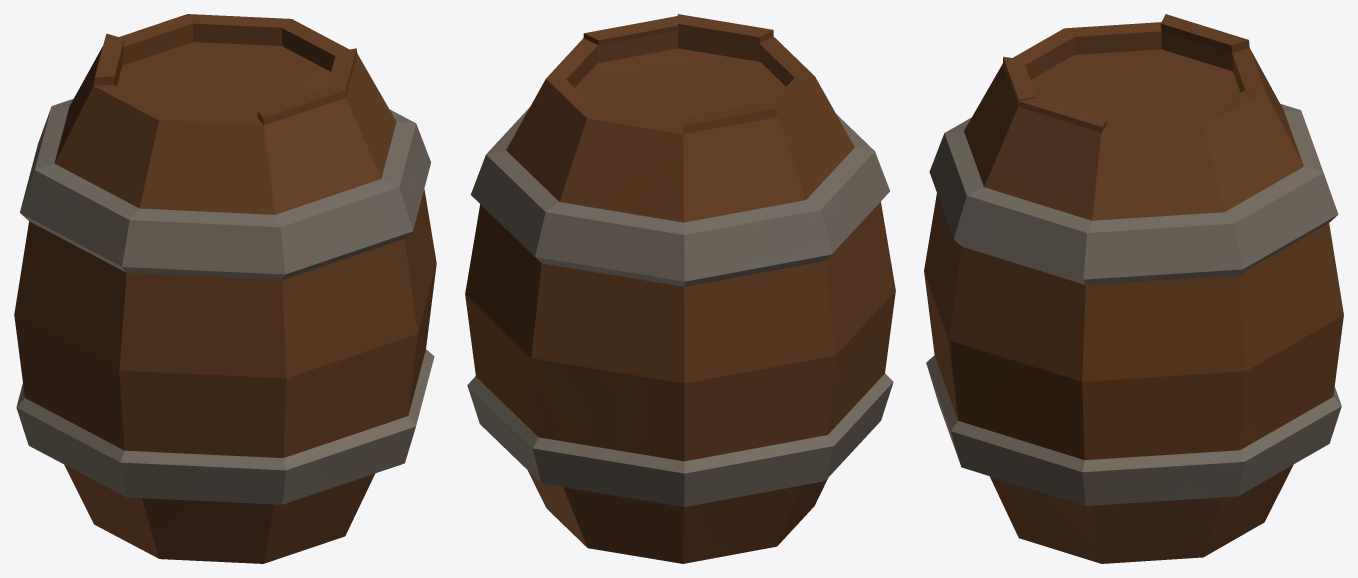
File: barrel.glb
3 renders of one model, left to right at view 1: azimuth 30°, elevation 25°; view 2: azimuth 150°, elevation 25°; view 3: azimuth 270°, elevation 25°, orthographic. The views are drawn at different scales.
Parts seen in each view (by area): view 1: barrel; view 2: barrel; view 3: barrel.
Boxes of the visible parts, bbox=[...] form: barrel: bbox=[14, 14, 436, 563]; barrel: bbox=[465, 14, 895, 563]; barrel: bbox=[924, 14, 1343, 563].
Bounding box in the file's own units: 1.04 × 1.2 × 1.04.
Materials: 1 (1 with a texture image).
